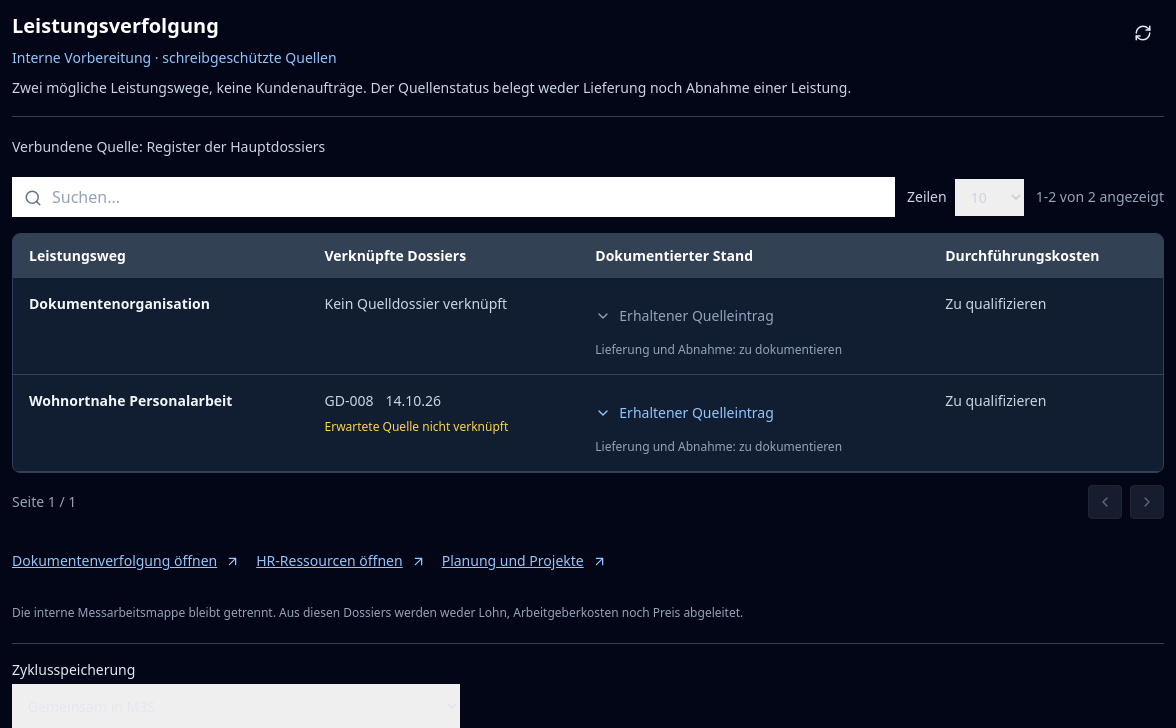
renders DE controls and dates without inventing receipt or costs
The width and height of the screenshot is (1176, 728).
Expected: the heading "Leistungsverfolgung" is shown, x1=12 y1=12 x2=219 y2=39
Click the button with aria-label "Erhaltener Quelleintrag · Wohnortnahe Personalarbeit" at [685, 413], box x1=595 y1=391 x2=774 y2=435
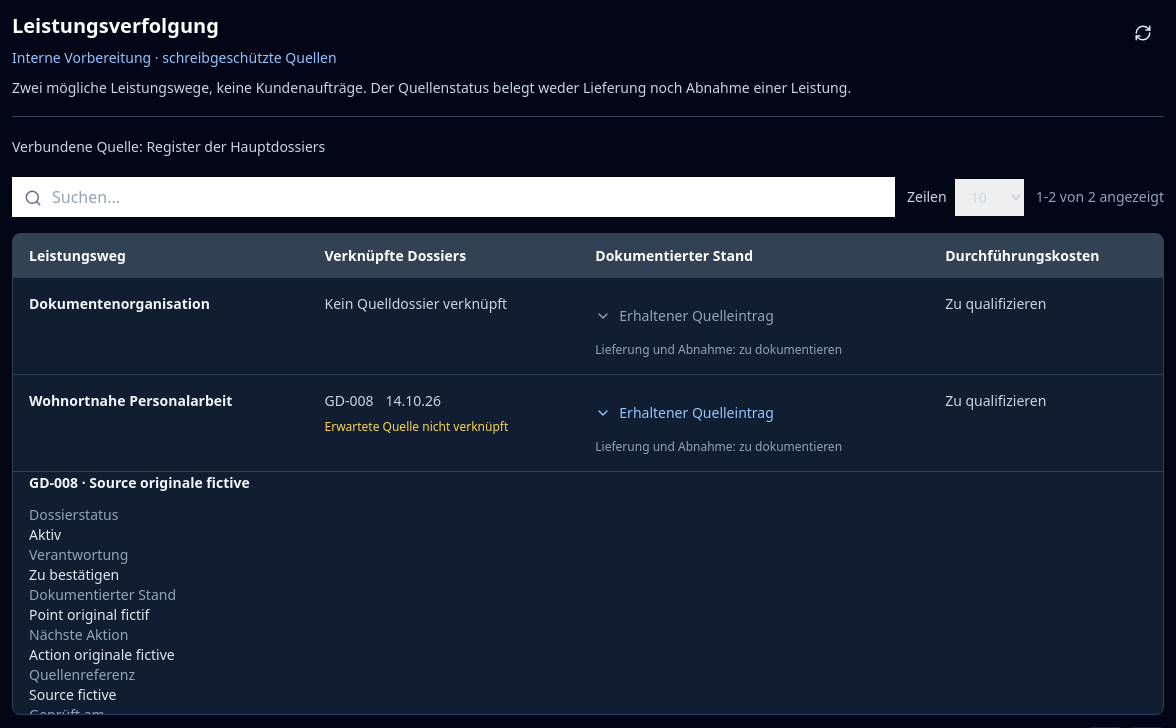
Expected: the text "14.10.26" is shown, x1=386 y1=391 x2=441 y2=410
Expected: the text "Action originale fictive" is shown, x1=29 y1=645 x2=175 y2=664
Click the button with aria-label "Erhaltener Quelleintrag · Wohnortnahe Personalarbeit" at [685, 413], box x1=595 y1=391 x2=774 y2=435
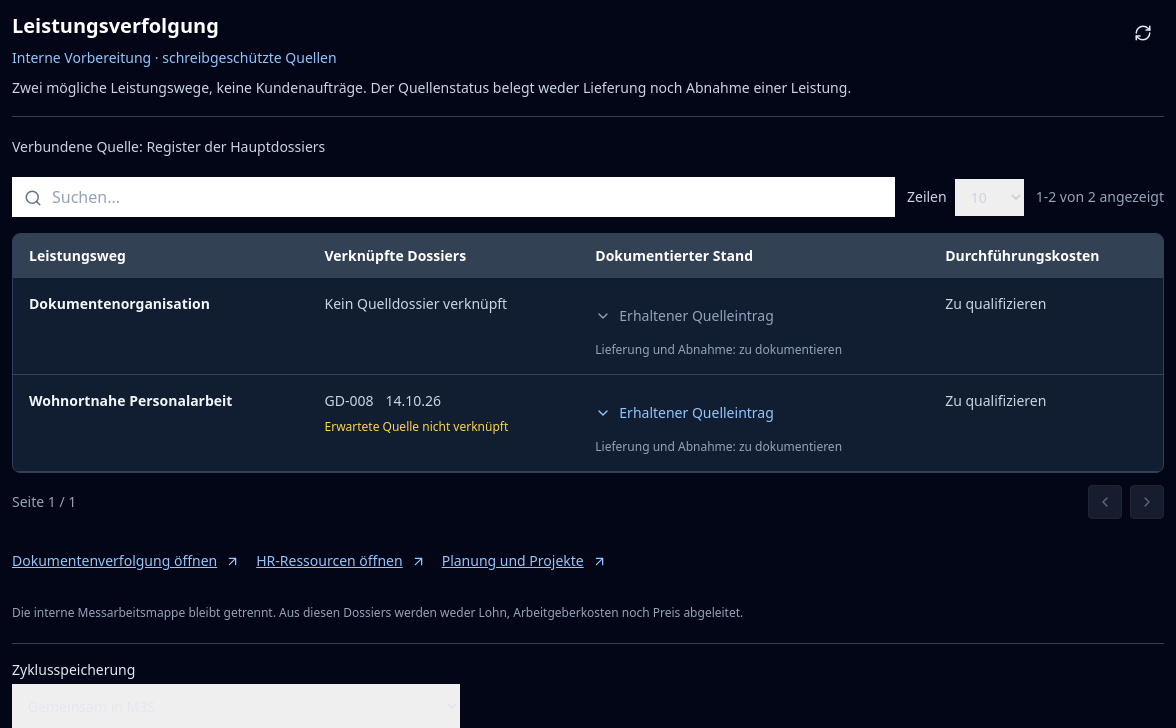
Expected: the text "Action originale fictive" is gone
